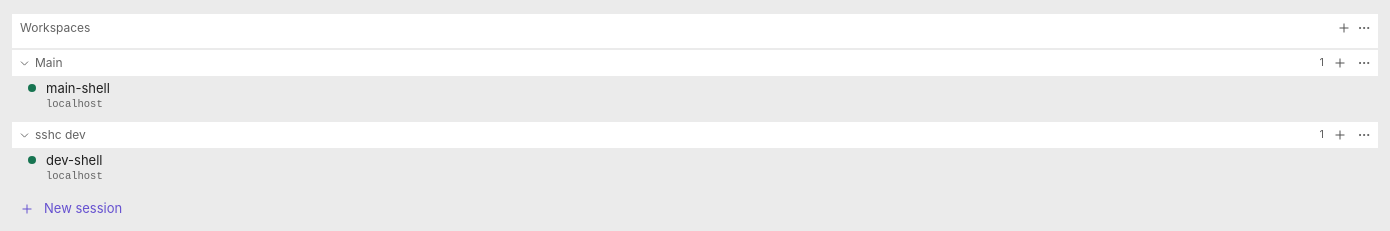
Test case: WorkspaceTree › folds a workspace and keeps it folded
The width and height of the screenshot is (1390, 231).
Click the button "sshc dev 1": (60, 134) x1=16 y1=122 x2=1326 y2=148
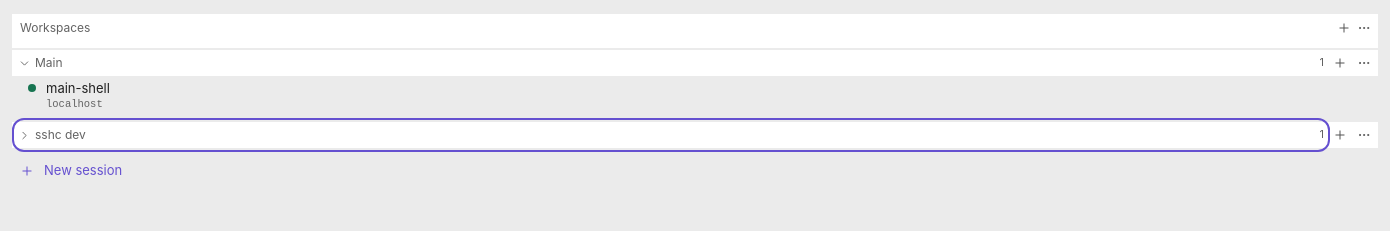
Result: the button "dev-shell" is gone
